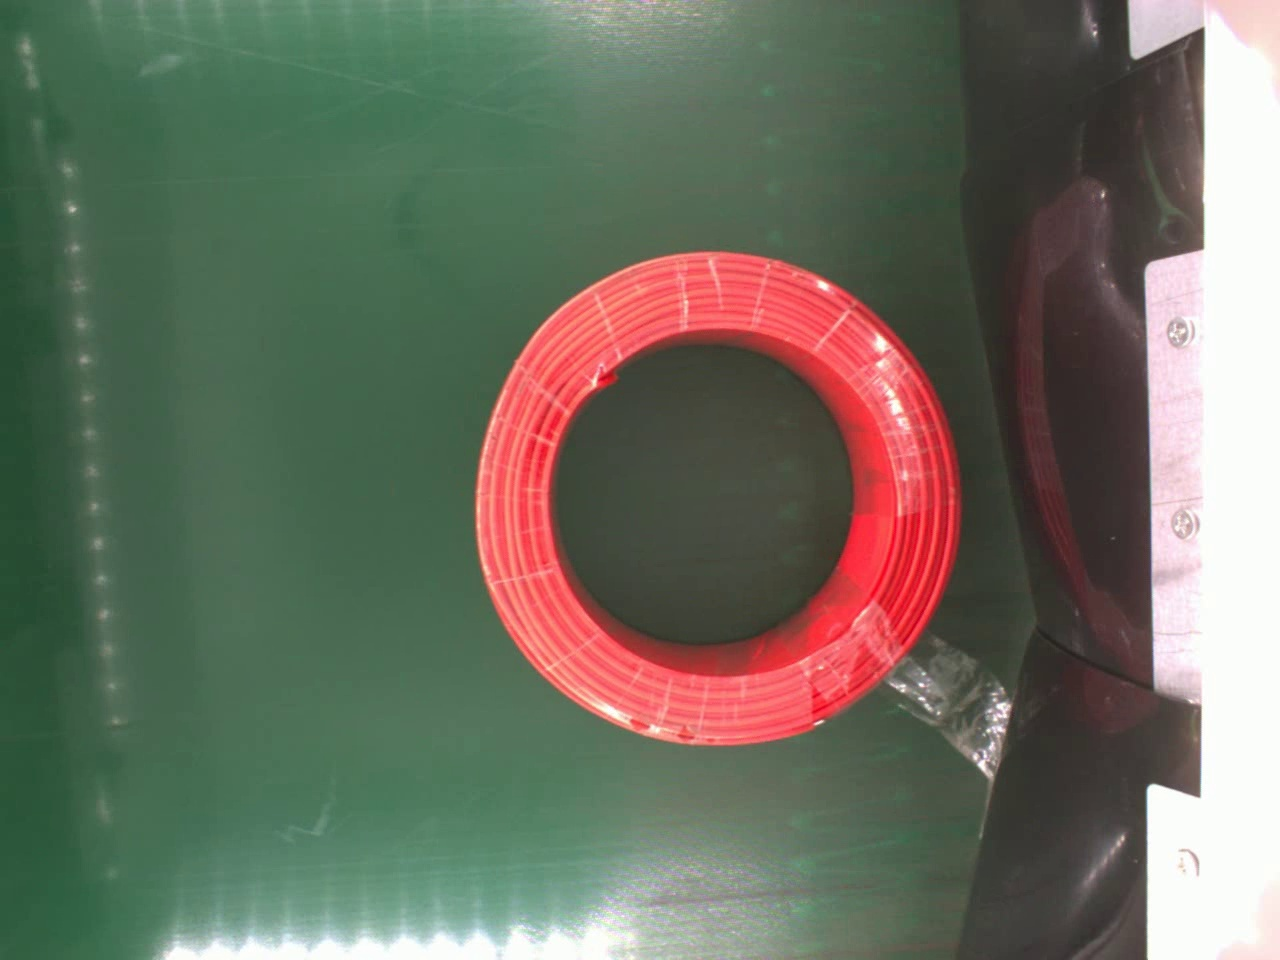red: (474, 250, 964, 750)
